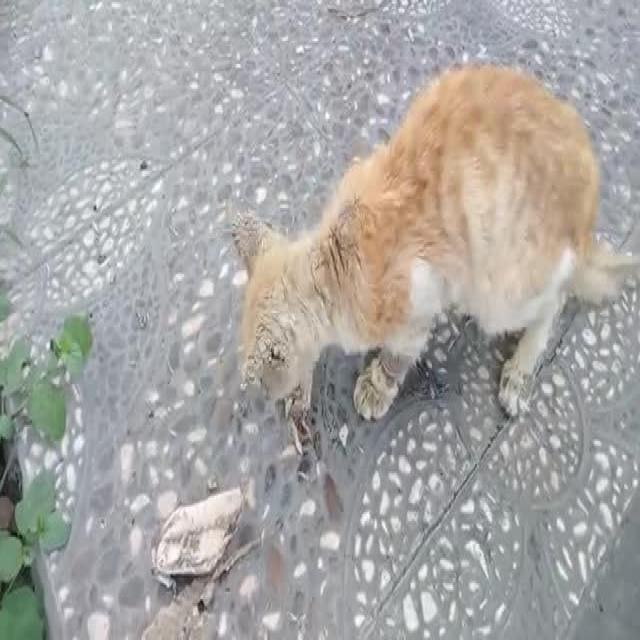ghe: (244, 297, 291, 396)
